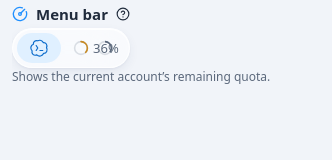
Test: TraySettings › reports a false save failure and keeps the persisted selection
Click the 2nd button named "Ring + remaining percentage" at (73, 48), box [61,33,85,63]
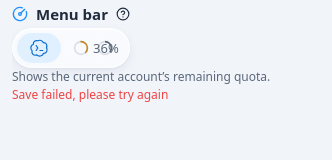
Check: the message reads "Save failed, please try again", box [12,86,168,103]
